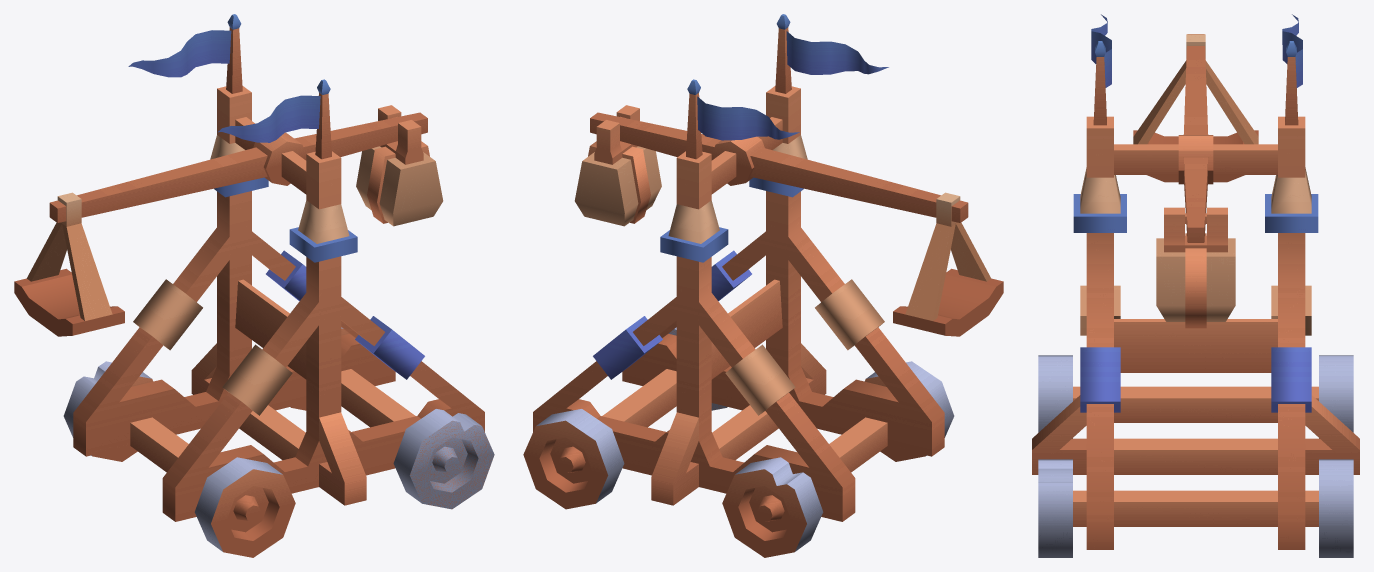
Rendered from siege-trebuchet.glb.
3 views of the same model, side by side, from view 1: azimuth 30°, elevation 25°; view 2: azimuth 150°, elevation 25°; view 3: azimuth 270°, elevation 25° (orthographic). The views are drawn at different scales.
Parts seen in each view (by area): view 1: siege-trebuchet, wheel (×3), catapult (×2), arm, weight (×2); view 2: siege-trebuchet, wheel (×3), catapult (×2), arm, weight (×2); view 3: siege-trebuchet, wheel (×4), weight (×2), arm, catapult (×2).
Part boxes in pixels (x1,y1,x2,y2): siege-trebuchet: [73, 14, 484, 521]; wheel (×3): [63, 361, 494, 557]; catapult (×2): [14, 192, 124, 336]; arm: [49, 112, 427, 222]; weight (×2): [356, 105, 443, 226]; siege-trebuchet: [533, 14, 944, 521]; wheel (×3): [523, 361, 954, 557]; catapult (×2): [893, 192, 1003, 336]; arm: [590, 112, 968, 222]; weight (×2): [574, 105, 661, 226]; siege-trebuchet: [1032, 14, 1359, 549]; wheel (×4): [1038, 355, 1353, 557]; weight (×2): [1156, 207, 1235, 328]; arm: [1178, 34, 1213, 242]; catapult (×2): [1133, 34, 1258, 182].
Bounding box in the file's own units: 1.85 × 1.96 × 1.26.
Materials: 1 (1 with a texture image).
